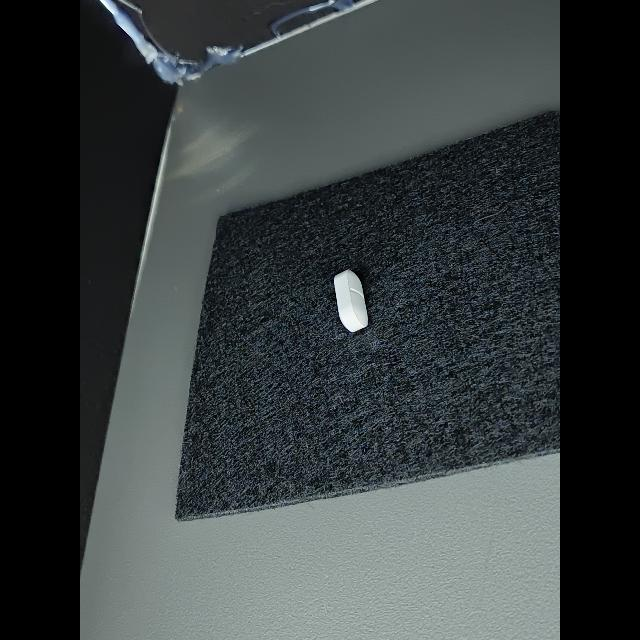Intact Pill: (334, 269, 368, 332)
